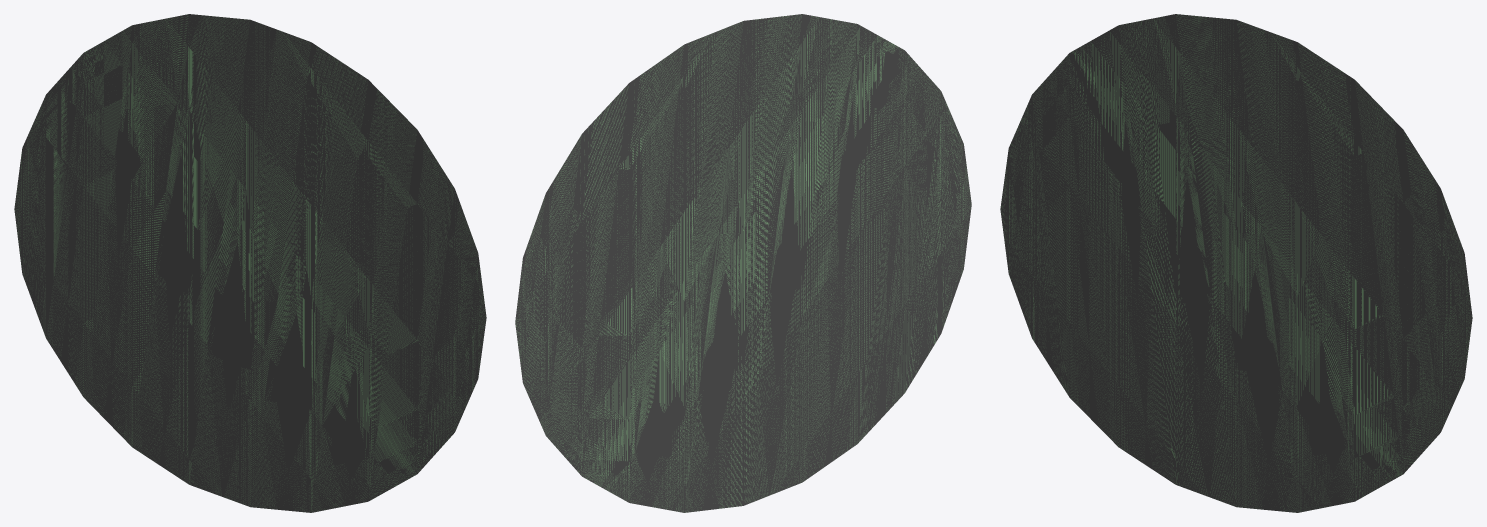
The model's file is original-97.obj.
The picture shows the model from 3 angles, left to right: view 1: azimuth 90°, elevation 25°; view 2: azimuth 150°, elevation 25°; view 3: azimuth 270°, elevation 25°; orthographic projection.
Visible parts, largest first — view 1: mesh44/mesh44-geometry/material_2#mesh44-geometry; view 2: mesh44/mesh44-geometry/material_2#mesh44-geometry; view 3: mesh44/mesh44-geometry/material_2#mesh44-geometry.
Boxes of the visible parts, bbox=[...] form: mesh44/mesh44-geometry/material_2#mesh44-geometry: bbox=[14, 14, 486, 512]; mesh44/mesh44-geometry/material_2#mesh44-geometry: bbox=[515, 14, 971, 512]; mesh44/mesh44-geometry/material_2#mesh44-geometry: bbox=[1000, 14, 1472, 512].
Size of the model in its own units: 0.0408 by 0.0854 by 0.075.
